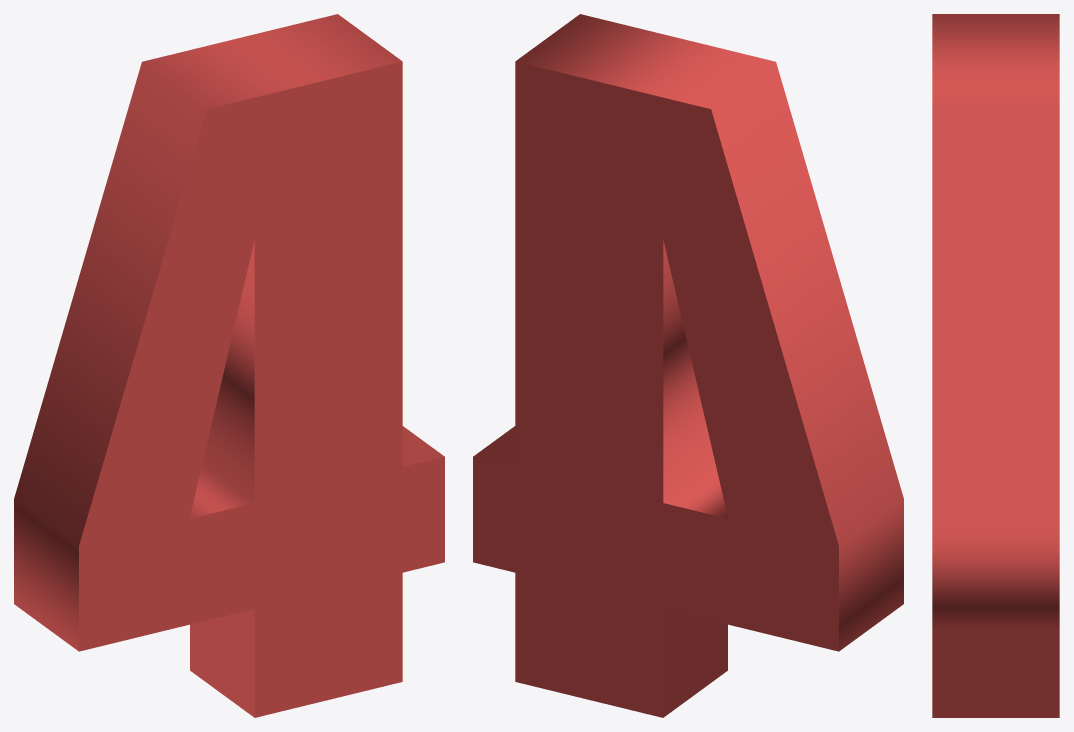
3 views of the same model, side by side, from view 1: azimuth 30°, elevation 25°; view 2: azimuth 150°, elevation 25°; view 3: azimuth 270°, elevation 25° (orthographic).
Visible parts, largest first — view 1: テキスト; view 2: テキスト; view 3: テキスト.
Part boxes in pixels (x1,y1,x2,y2): テキスト: (14,14,444,717); テキスト: (473,14,903,717); テキスト: (932,14,1059,717).
Bounding box in the file's own units: 0.3255 × 0.5275 × 0.1.
